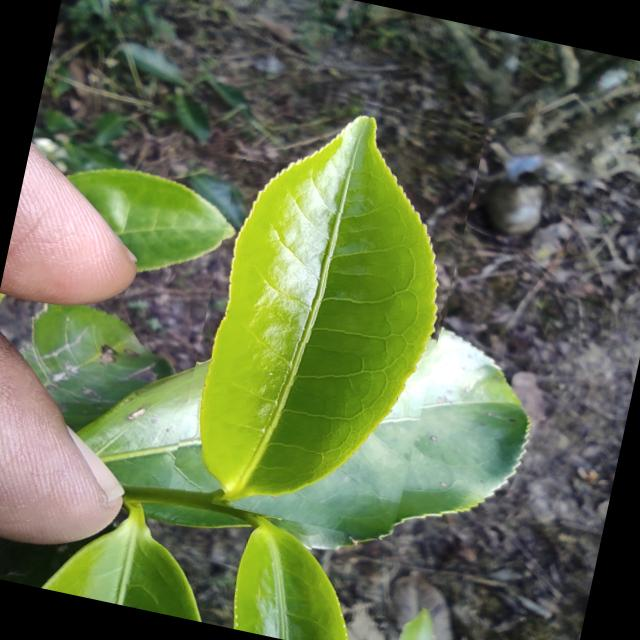Category B(2-4 days): (167, 72, 488, 544)
